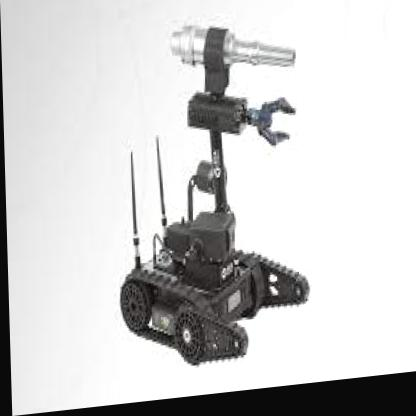UGV: (117, 201, 311, 377)
